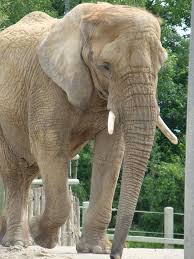Elephant: (3, 5, 178, 255)
